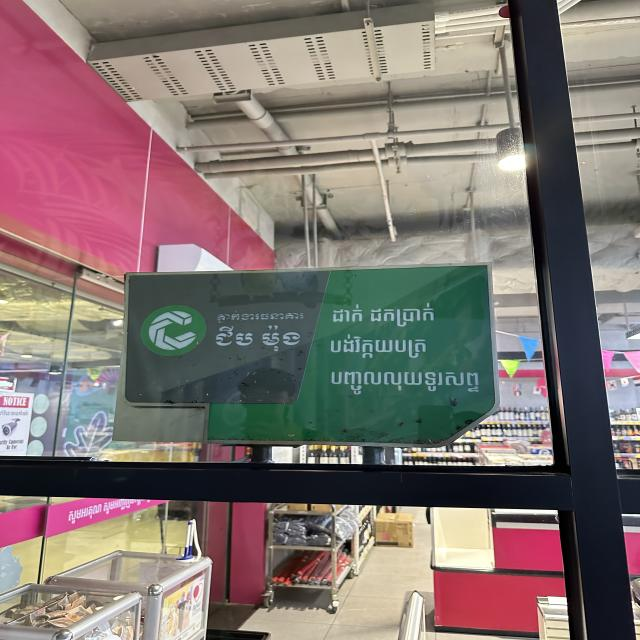1: (324, 299, 448, 332), (204, 322, 303, 358)
Yolov11_80vkh: (324, 363, 484, 401), (328, 333, 437, 365)
